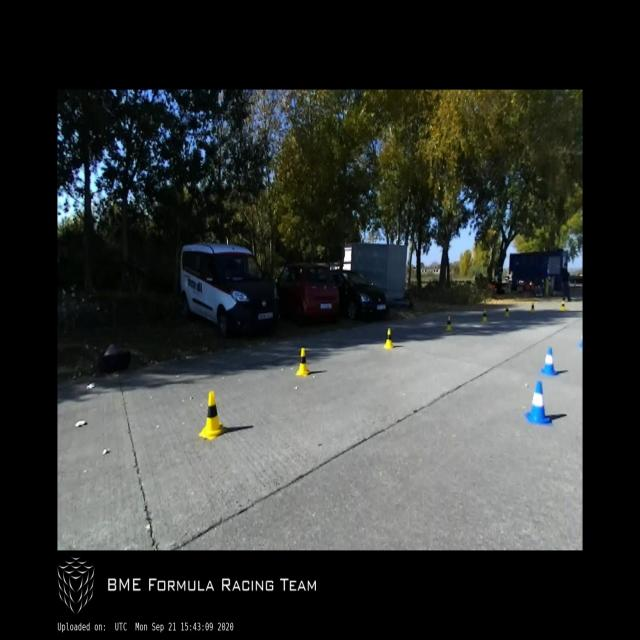blue_cone: (525, 381, 553, 424), (541, 347, 557, 375)
yellow_cone: (198, 392, 225, 439), (296, 348, 310, 376), (383, 328, 395, 348), (446, 316, 452, 330), (482, 310, 488, 321), (530, 302, 535, 313), (561, 300, 565, 312), (505, 306, 509, 317)
